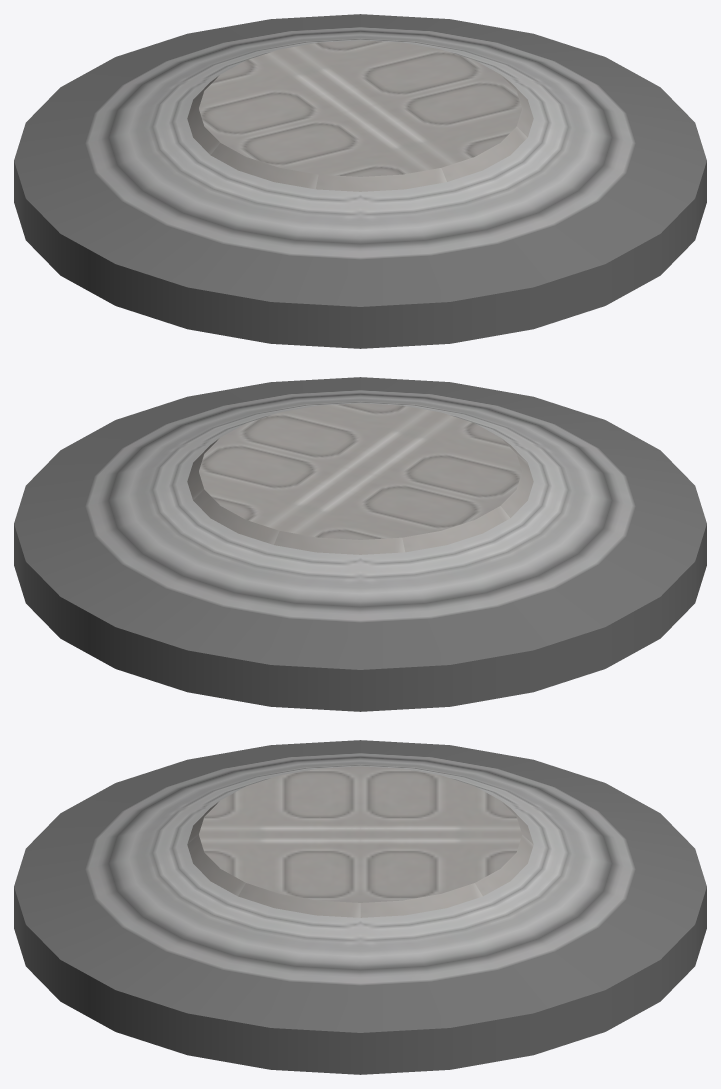
File: vega_adapter_s1p5_s0p5_1.obj
3 views of the same model, one above another, from view 1: azimuth 30°, elevation 25°; view 2: azimuth 150°, elevation 25°; view 3: azimuth 270°, elevation 25° (orthographic).
Parts seen in each view (by area): view 1: vega_adapter_s1p5_s0p5_1; view 2: vega_adapter_s1p5_s0p5_1; view 3: vega_adapter_s1p5_s0p5_1.
Part boxes in pixels (box(x1,y1,x2,y2)): vega_adapter_s1p5_s0p5_1: box(14, 14, 706, 348); vega_adapter_s1p5_s0p5_1: box(14, 377, 706, 711); vega_adapter_s1p5_s0p5_1: box(14, 740, 706, 1074).
Size of the model in its own units: 1.88 by 0.28 by 1.88.
